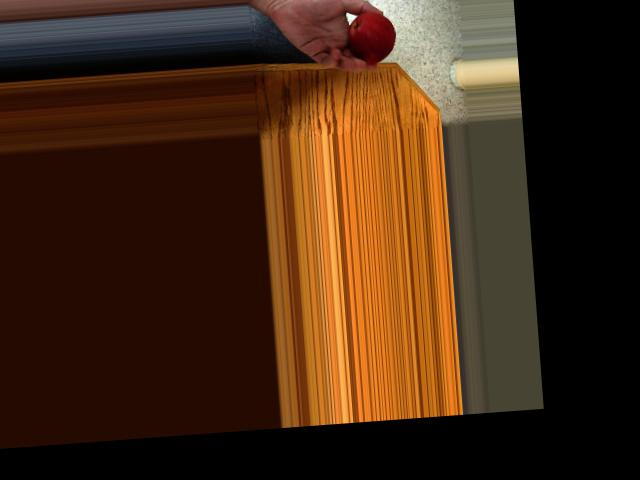apple: (346, 7, 399, 66)
